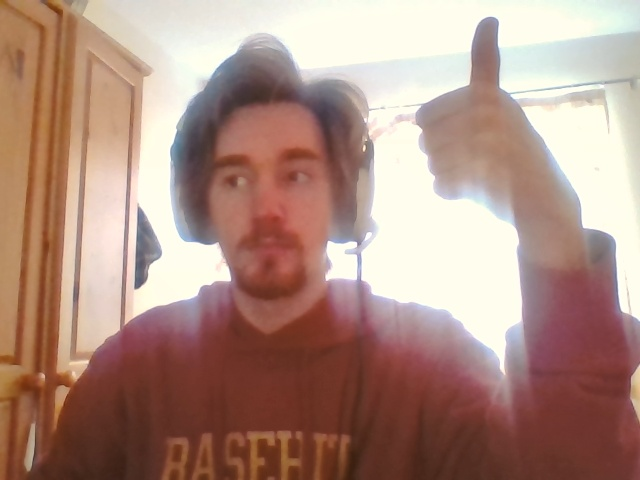good: (415, 16, 580, 200)
